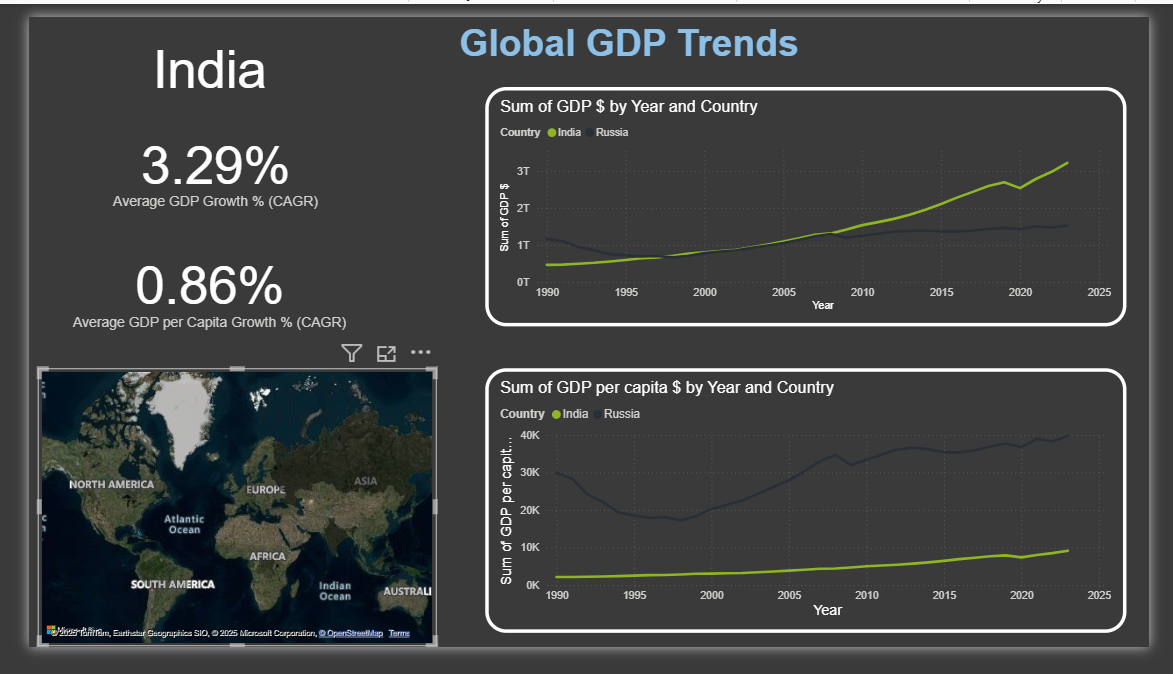

The dashboard page shown, as its layout file describes it:
{"tool":"powerbi","page":{"name":"Global GDP trends","canvas":[1280,720],"ordinal":0},"visuals":[{"type":"lineChart","fields":{"Category":["gdp-per-capita-worldbank.Year"],"Series":["gdp-per-capita-worldbank.Country"],"Y":["Sum(gdp-per-capita-worldbank.GDP per capita $)"]},"box":[521.2,401.2,732.5,302.5],"z":0},{"type":"filledMap","fields":{"Category":["gdp-per-capita-worldbank.Country"]},"box":[10,401.2,455,318.8],"z":1000},{"type":"lineChart","fields":{"Category":["gdp-per-capita-worldbank.Year"],"Y":["Sum(gdp-per-capita-worldbank.GDP $)"],"Series":["gdp-per-capita-worldbank.Country"]},"box":[521.2,80,732.5,273.8],"z":2000},{"type":"card","fields":{"Values":["gdp.GDP Growth % (CAGR)"]},"box":[57.5,113.8,312.5,118.8],"z":3000},{"type":"card","fields":{"Values":["gdp.GDP per Capita Growth % (CAGR)"]},"box":[42.5,251.2,327.5,120],"z":4000},{"type":"card","fields":{"Values":["Min(gdp-per-capita.Country)"]},"box":[42.5,13.8,327.5,82.5],"z":5000},{"type":"textbox","box":[447.5,0,477.5,80],"z":6000}]}

Visuals, with their boxes in screenshot pixels (x1, y1, x2, y2), scaled from the page's 1280x720 canvas onto the 1173x674 screenshot:
lineChart - gdp-per-capita-worldbank.Year x gdp-per-capita-worldbank.Country: 478/376/1149/659
filledMap - gdp-per-capita-worldbank.Country: 9/376/426/673
lineChart - gdp-per-capita-worldbank.Year x Sum(gdp-per-capita-worldbank.GDP $): 478/75/1149/331
card - gdp.GDP Growth % (CAGR): 53/107/339/218
card - gdp.GDP per Capita Growth % (CAGR): 39/235/339/347
card - Min(gdp-per-capita.Country): 39/13/339/90
textbox: 410/0/848/75
